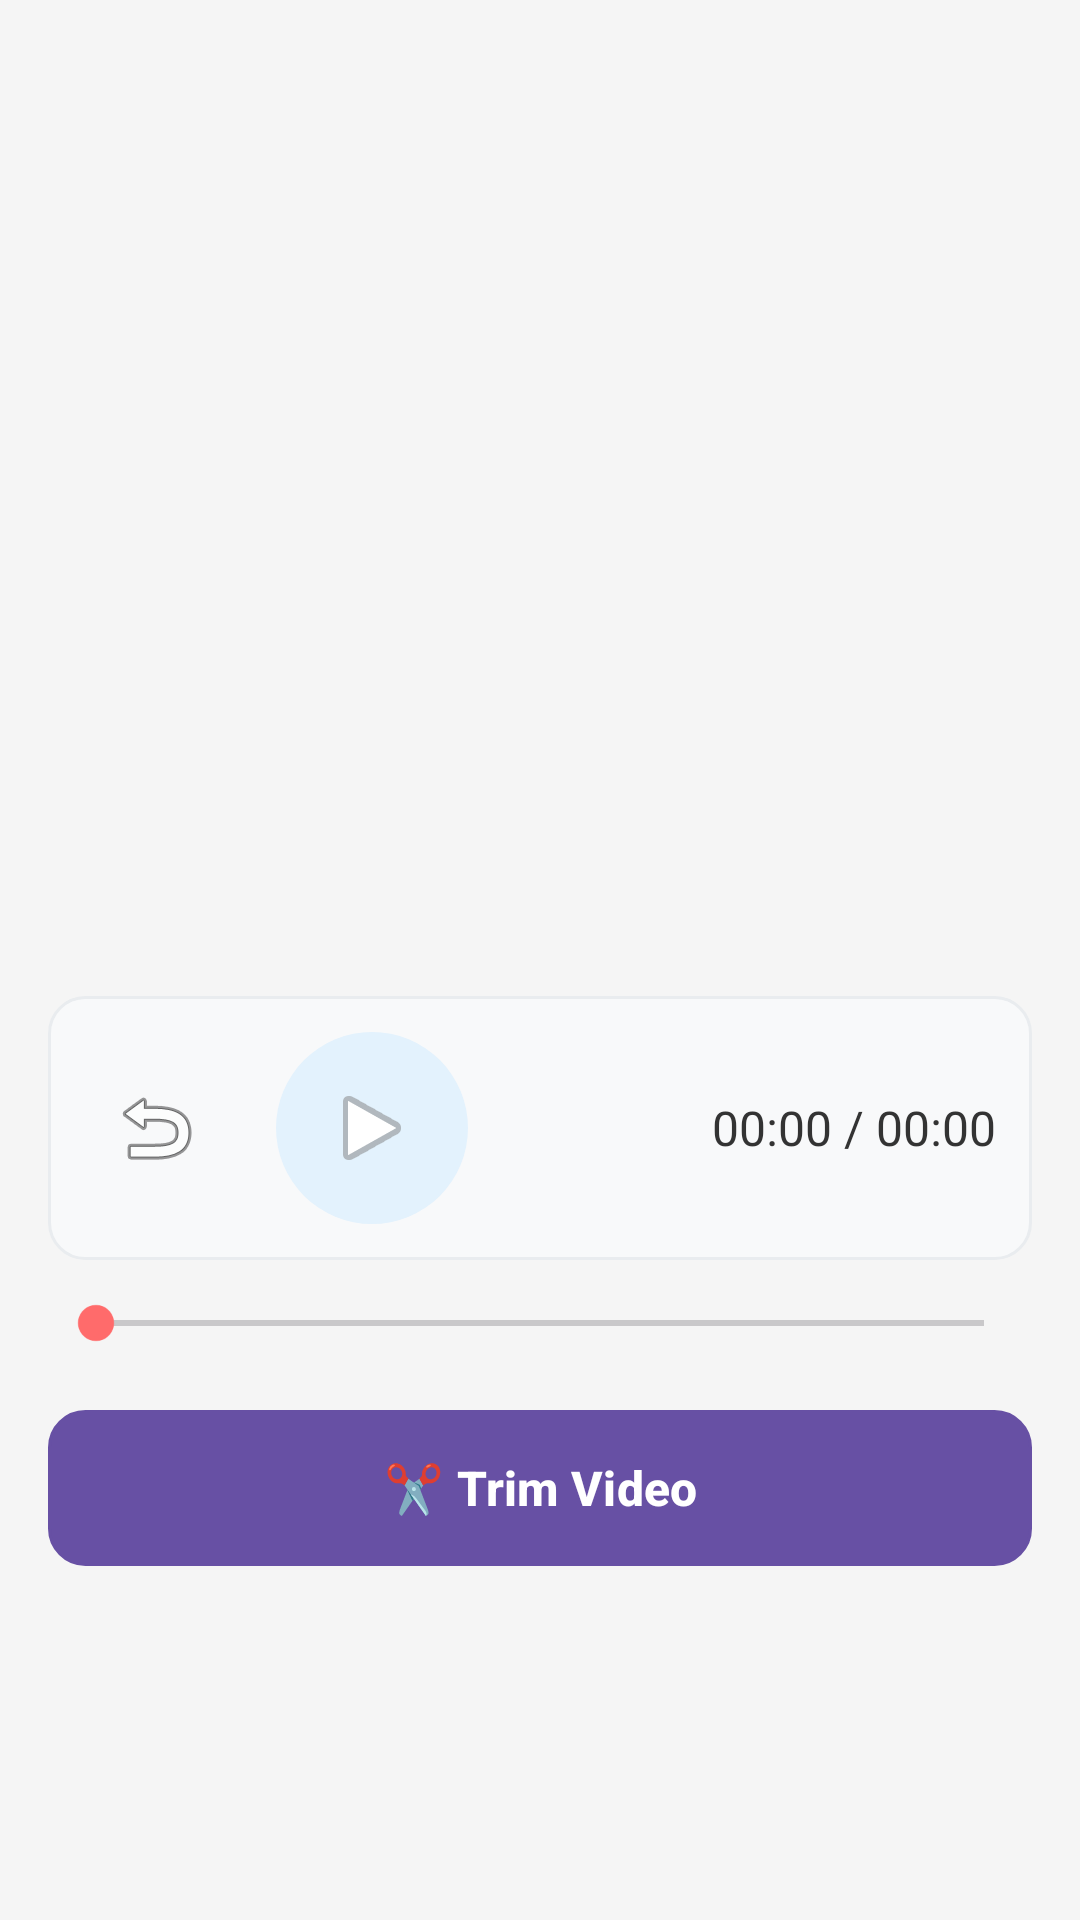

Where to tap for icons on this 1080px x 1920px app screen, as [x,y]:
Back: [157,1128]
Play/Pause: [372,1128]
